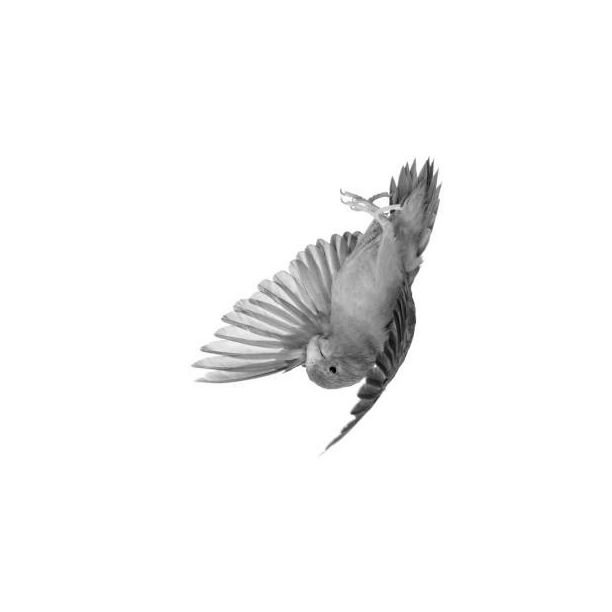Bird: (188, 148, 447, 461)
